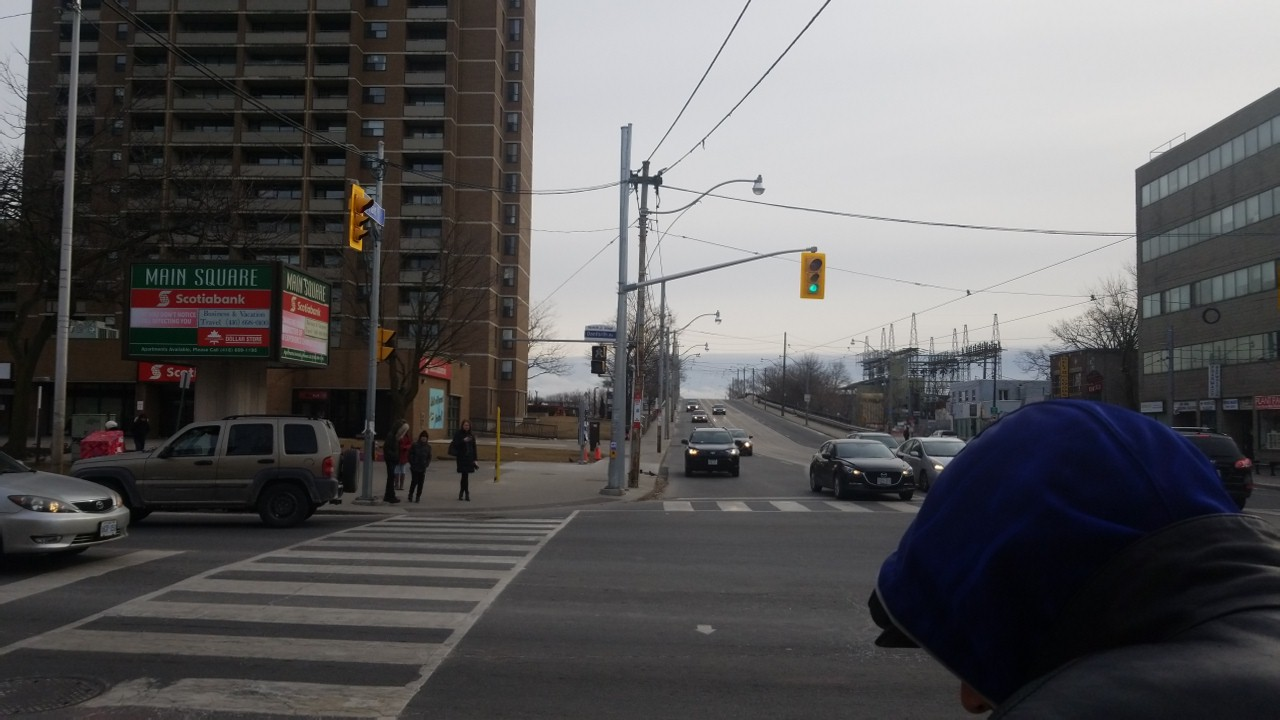light: (588, 343, 609, 378)
